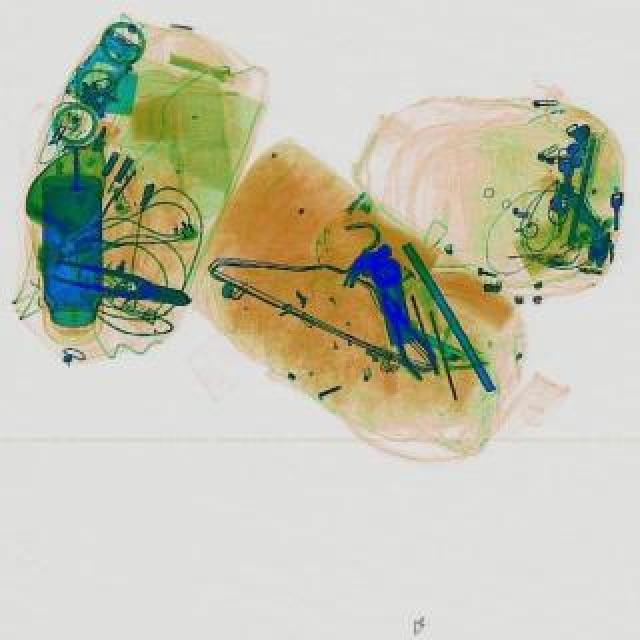wrench: (46, 256, 192, 314), (366, 288, 442, 386)
